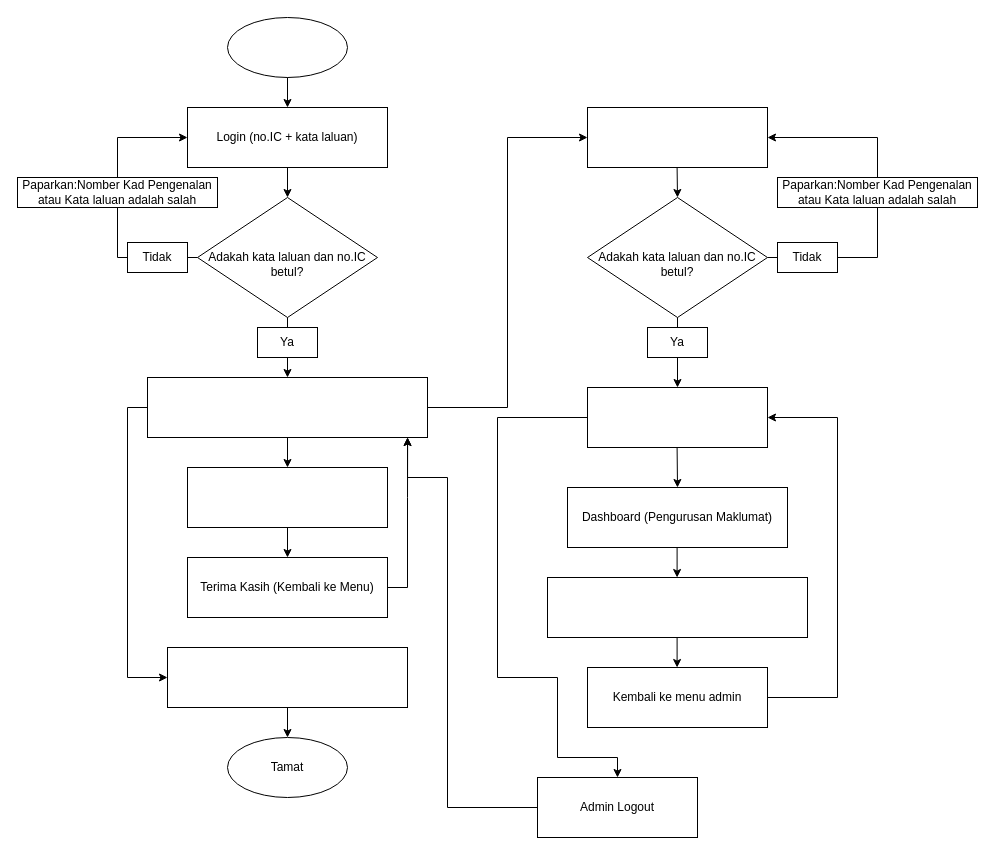
Image size: 995x855. Some labels were removed from this diagram. Each missing label, with the box of its shape:
Admin Login: (586, 106, 768, 168)
Laporan Keputusan (menu admin): (586, 386, 768, 448)
Logout → ANDA TELAH LOG KELUAR: (166, 646, 408, 708)
Menu:Pilihan undian: (146, 376, 428, 438)
Mula: (226, 16, 348, 78)
Pilihan (ProdukA / ProdukB): (186, 466, 388, 528)
Senarai Pengundi (ID, Nama, Masa, Pilihan): (546, 576, 808, 638)
